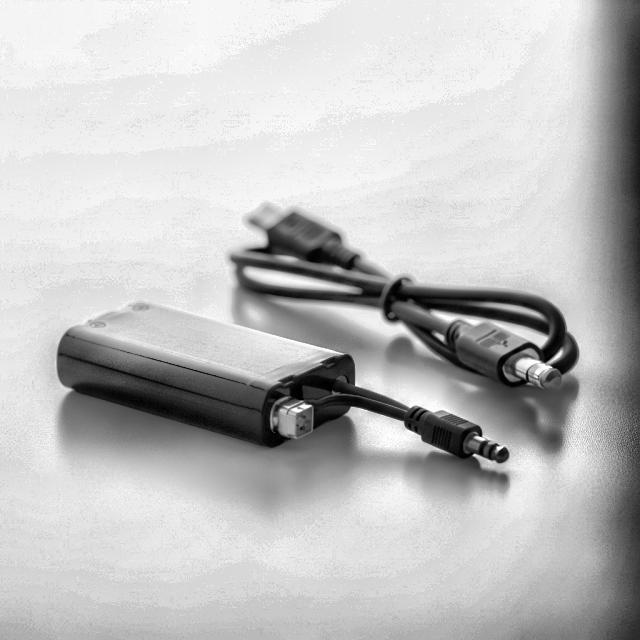Battery: (54, 298, 355, 448)
Cable: (235, 195, 580, 389), (356, 386, 508, 474)
